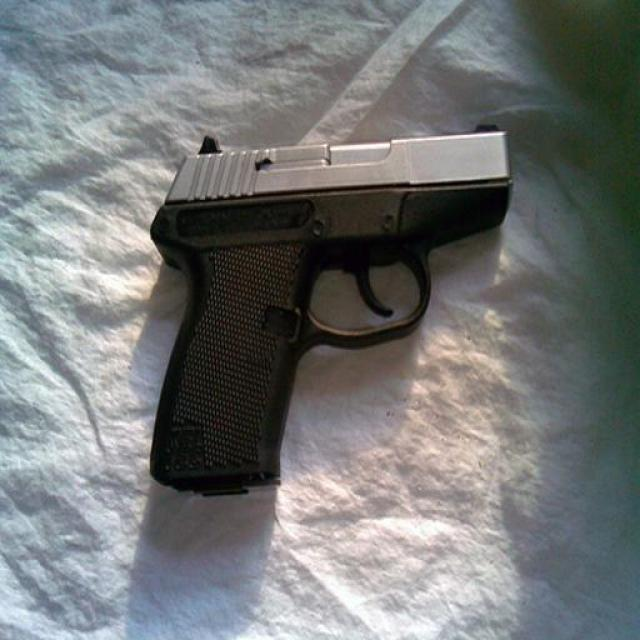pistol: (152, 120, 515, 494)
